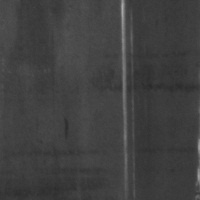scratches: (118, 1, 139, 197)
